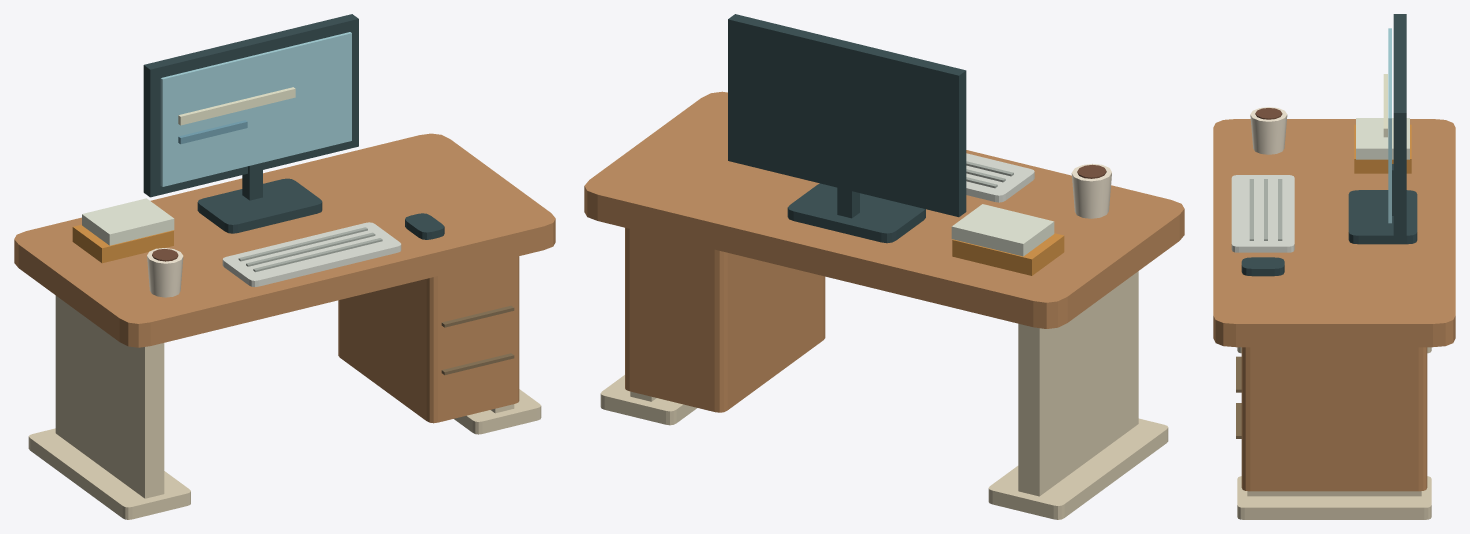
File: desk.glb
The picture shows the model from 3 angles, left to right: view 1: azimuth 30°, elevation 25°; view 2: azimuth 150°, elevation 25°; view 3: azimuth 270°, elevation 25°; orthographic projection. The views are drawn at different scales.
Parts seen in each view (by area): view 1: desk-studio; view 2: desk-studio; view 3: desk-studio.
Part boxes in pixels (x1,y1,x2,y2): desk-studio: (14,14,555,519); desk-studio: (584,14,1184,519); desk-studio: (1213,14,1455,519).
Size of the model in its own units: 1.6 by 1.3 by 0.8.
